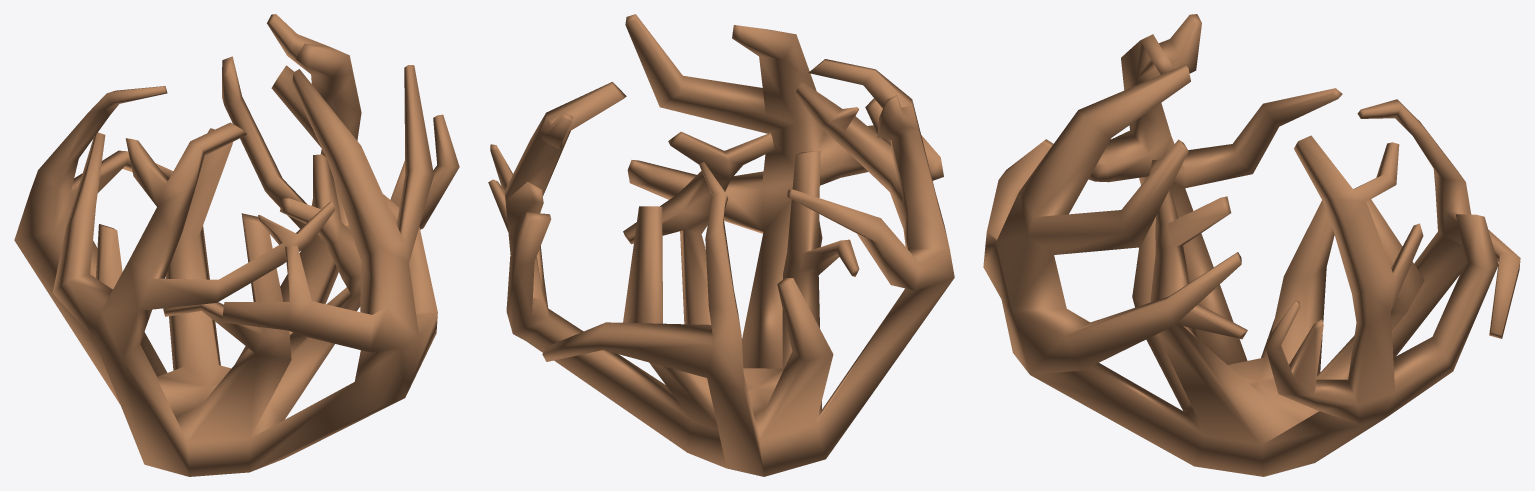
The model's file is Tumbleweed.fbx.
3 views of the same model, side by side, from view 1: azimuth 30°, elevation 25°; view 2: azimuth 150°, elevation 25°; view 3: azimuth 270°, elevation 25° (orthographic). The views are drawn at different scales.
Parts seen in each view (by area): view 1: Tumbleweed.001; view 2: Tumbleweed.001; view 3: Tumbleweed.001.
Part boxes in pixels (x1,y1,x2,y2): Tumbleweed.001: (14,14,459,476); Tumbleweed.001: (488,14,954,476); Tumbleweed.001: (983,14,1520,476).
Size of the model in its own units: 0.3868 by 0.4185 by 0.348.
